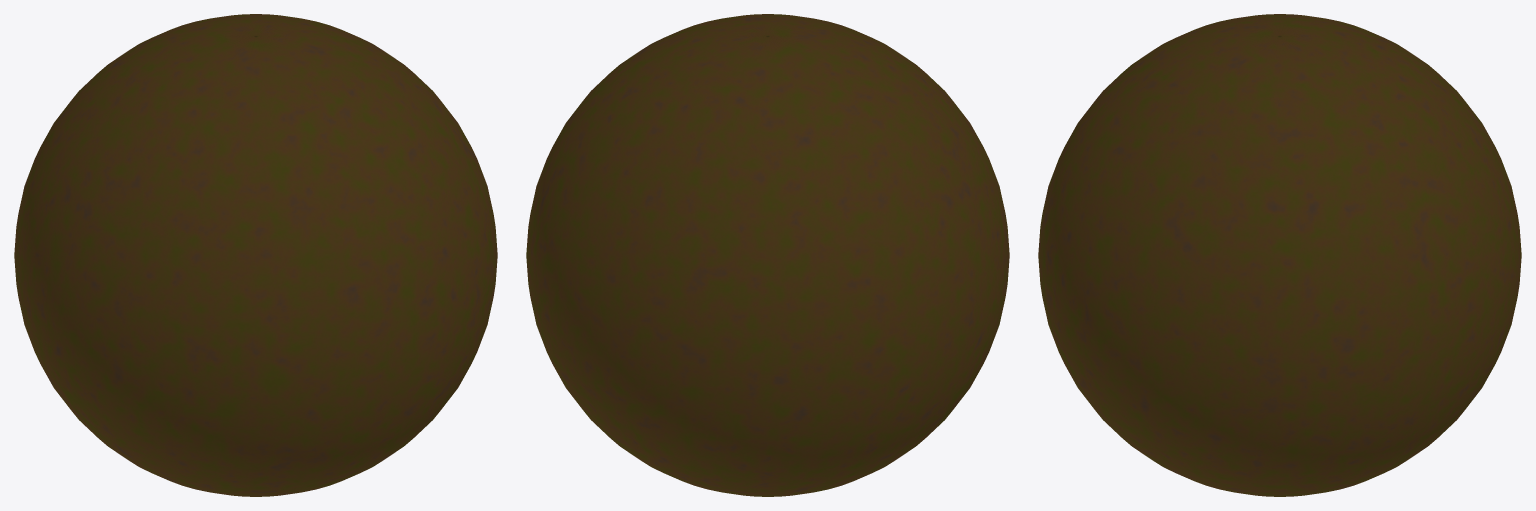
The model's file is yellow.glb.
3 renders of one model, left to right at view 1: azimuth 30°, elevation 25°; view 2: azimuth 150°, elevation 25°; view 3: azimuth 270°, elevation 25°, orthographic.
Parts seen in each view (by area): view 1: Sphere; view 2: Sphere; view 3: Sphere.
Part boxes in pixels (left/top/right/bottom): Sphere: left=14, top=14, right=497, bottom=496; Sphere: left=526, top=14, right=1009, bottom=496; Sphere: left=1038, top=14, right=1521, bottom=496.
Size of the model in its own units: 2 by 2 by 2.
Materials: 1 (1 with a texture image).
